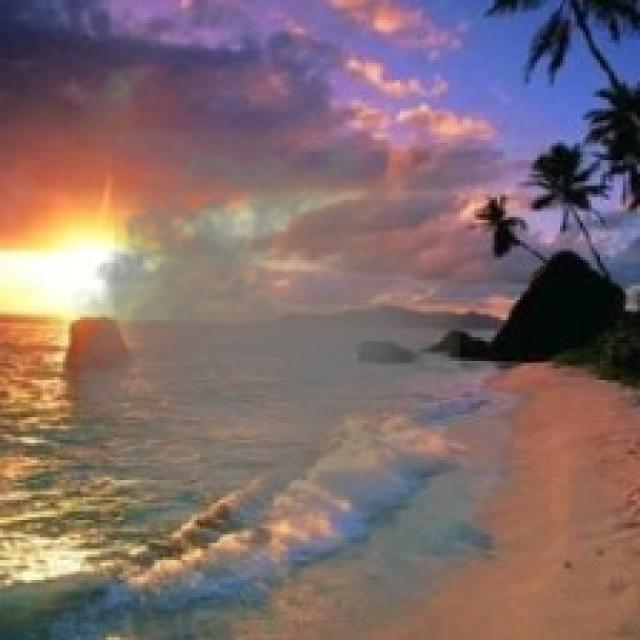smoke: (46, 126, 460, 523)
